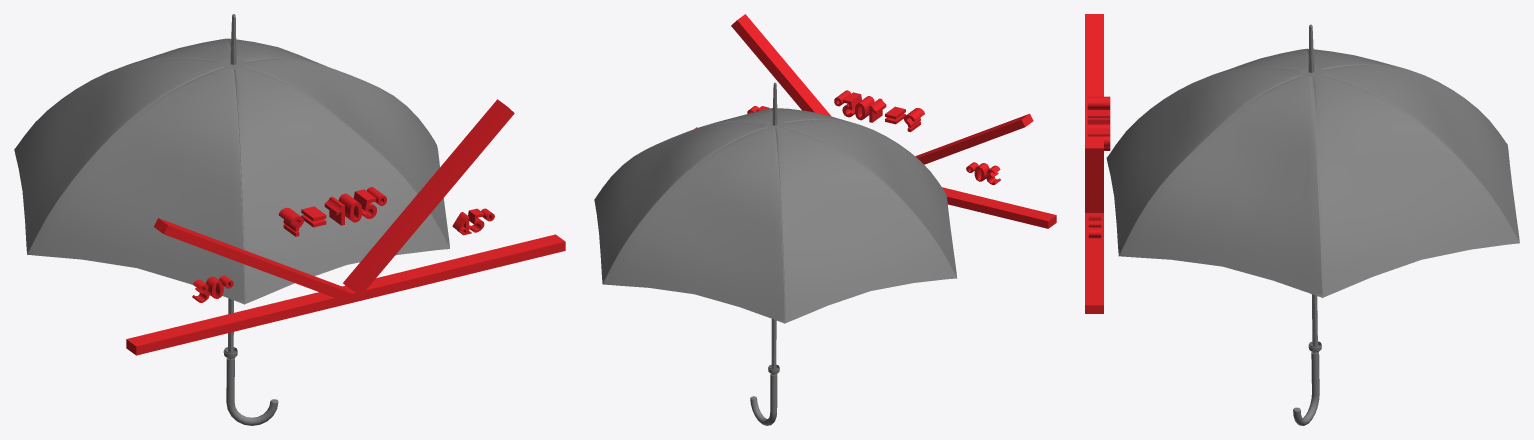
Rendered from pergunta16Obj.fbx.
The picture shows the model from 3 angles, left to right: view 1: azimuth 30°, elevation 25°; view 2: azimuth 150°, elevation 25°; view 3: azimuth 270°, elevation 25°; orthographic projection. The views are drawn at different scales.
Parts seen in each view (by area): view 1: node_id35, root (×3), node_id151, node_id31, node_id111, node_id104; view 2: node_id35, root (×3), node_id151, node_id31, node_id33, node_id104; view 3: node_id35, root (×3), node_id151, node_id31, node_id33.
Part boxes in pixels (<box>): node_id35: <box>14,38,449,304</box>; root (×3): <box>126,99,565,355</box>; node_id151: <box>278,187,386,236</box>; node_id31: <box>226,358,278,425</box>; node_id111: <box>452,208,494,235</box>; node_id104: <box>192,275,233,302</box>; node_id35: <box>594,108,957,323</box>; root (×3): <box>695,14,1056,228</box>; node_id151: <box>834,90,924,132</box>; node_id31: <box>750,373,777,425</box>; node_id33: <box>771,82,777,375</box>; node_id104: <box>966,162,1000,184</box>; node_id35: <box>1106,48,1519,297</box>; root (×3): <box>1085,14,1103,313</box>; node_id151: <box>1087,96,1110,150</box>; node_id31: <box>1293,351,1319,425</box>; node_id33: <box>1308,24,1317,353</box>.
Bounding box in the file's own units: 0.5576 × 0.5126 × 0.5156.
